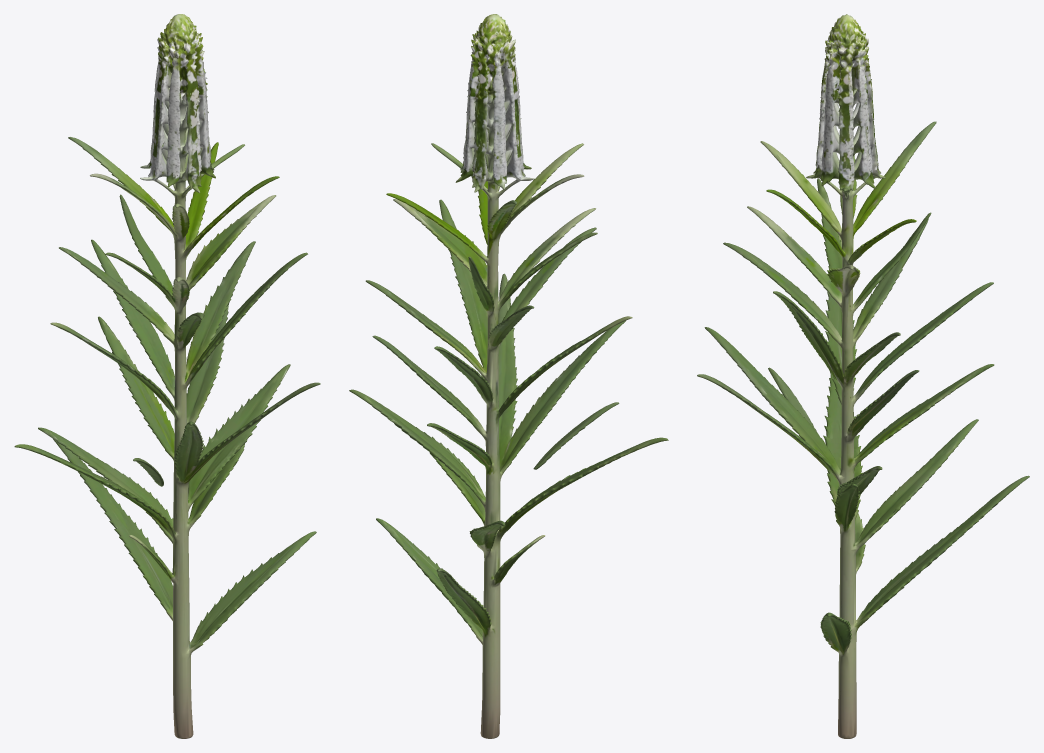
Rendered from xiangru.glb.
The picture shows the model from 3 angles, left to right: view 1: azimuth 30°, elevation 25°; view 2: azimuth 150°, elevation 25°; view 3: azimuth 270°, elevation 25°; orthographic projection.
Visible parts, largest first — view 1: node_0; view 2: node_0; view 3: node_0.
Boxes of the visible parts, x1=… form: node_0: x1=14, y1=14, x2=320, y2=738; node_0: x1=349, y1=14, x2=668, y2=738; node_0: x1=697, y1=14, x2=1029, y2=738.
Bounding box in the file's own units: 0.5139 × 1.19 × 0.5001.
Materials: 1 (1 with a texture image).
